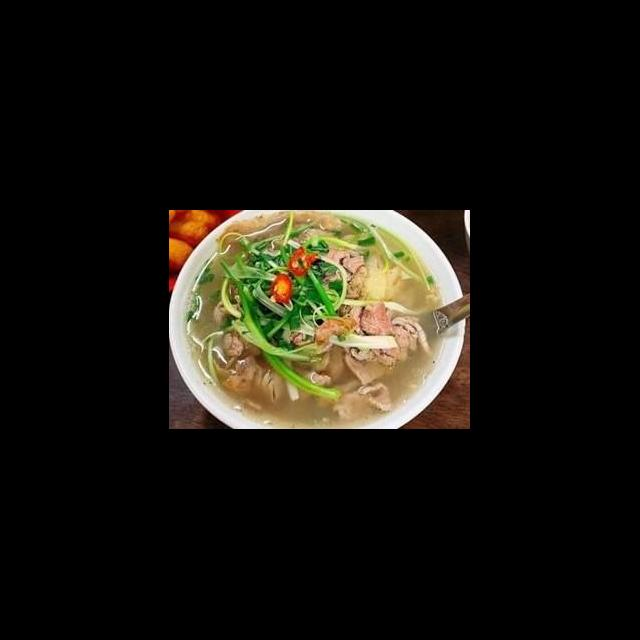thit bo: (326, 296, 436, 386), (208, 328, 288, 404), (298, 226, 368, 288), (327, 378, 398, 422)
